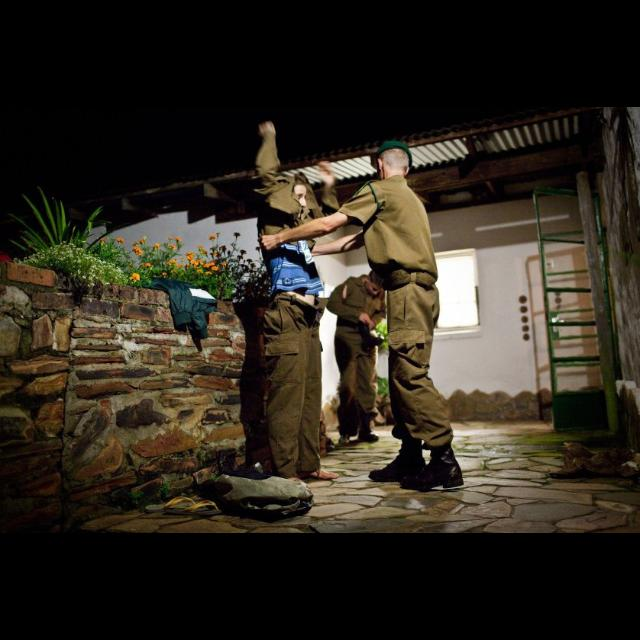head: (274, 176, 308, 222), (377, 143, 411, 183), (365, 270, 389, 298)
person: (256, 138, 466, 494), (245, 120, 341, 490), (324, 266, 396, 449)
